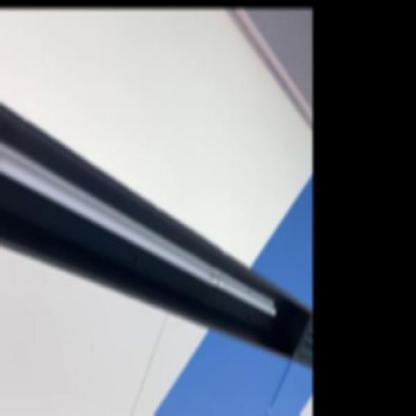light_off: (0, 114, 283, 329)
